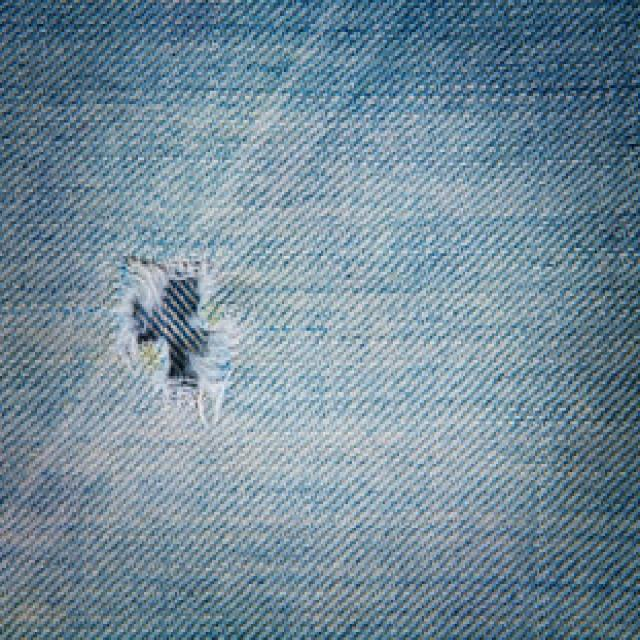Hole: (116, 258, 238, 424)
